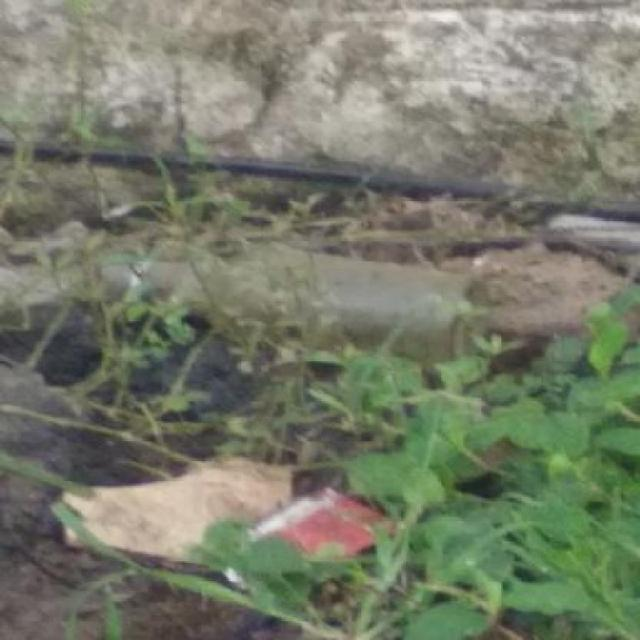garbage: (96, 205, 515, 396)
